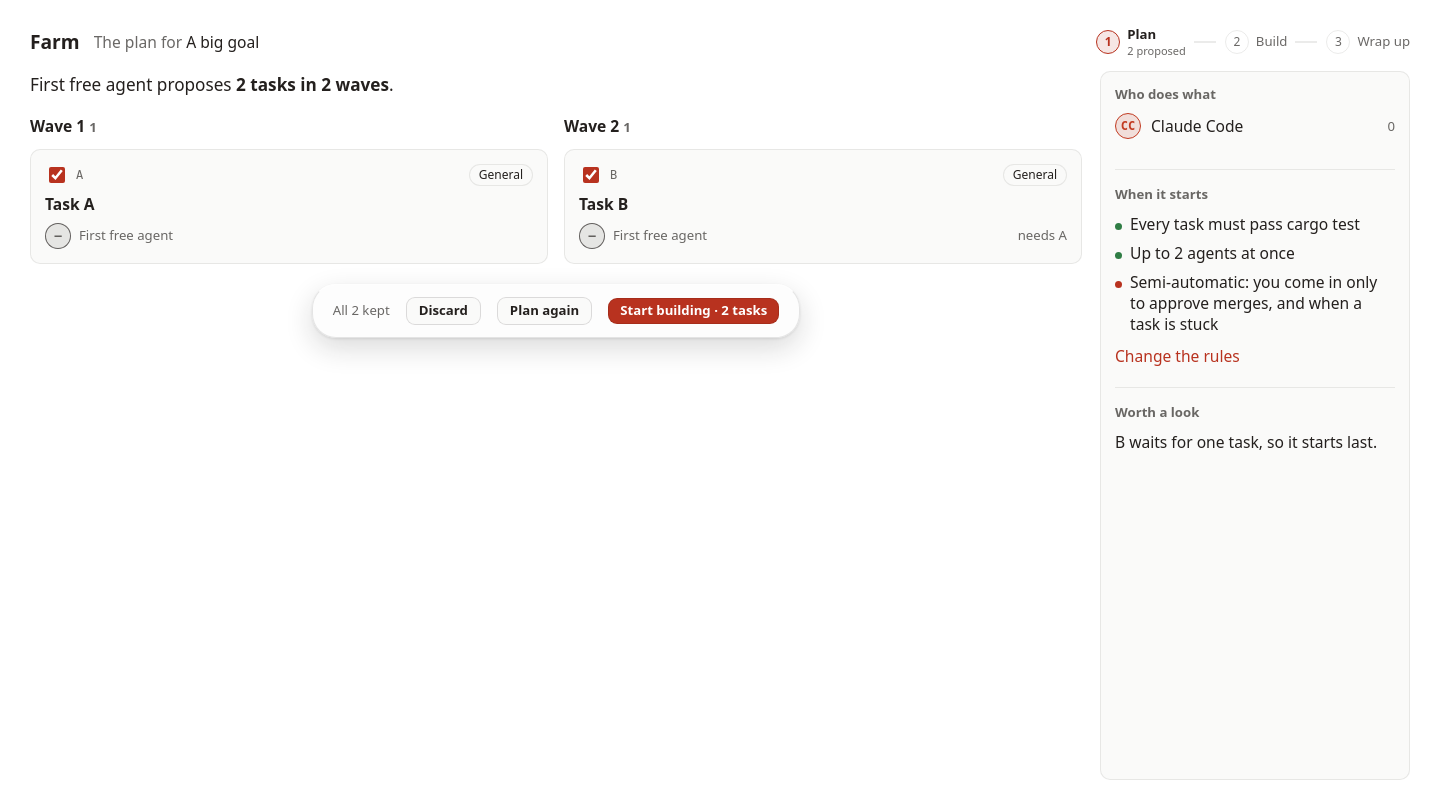
Test: Farm journey routes and actions › prevents accepting a plan with an omitted prerequisite
The width and height of the screenshot is (1440, 810).
Click the checkbox named "Keep A" at (57, 175), box [49,167,65,183]
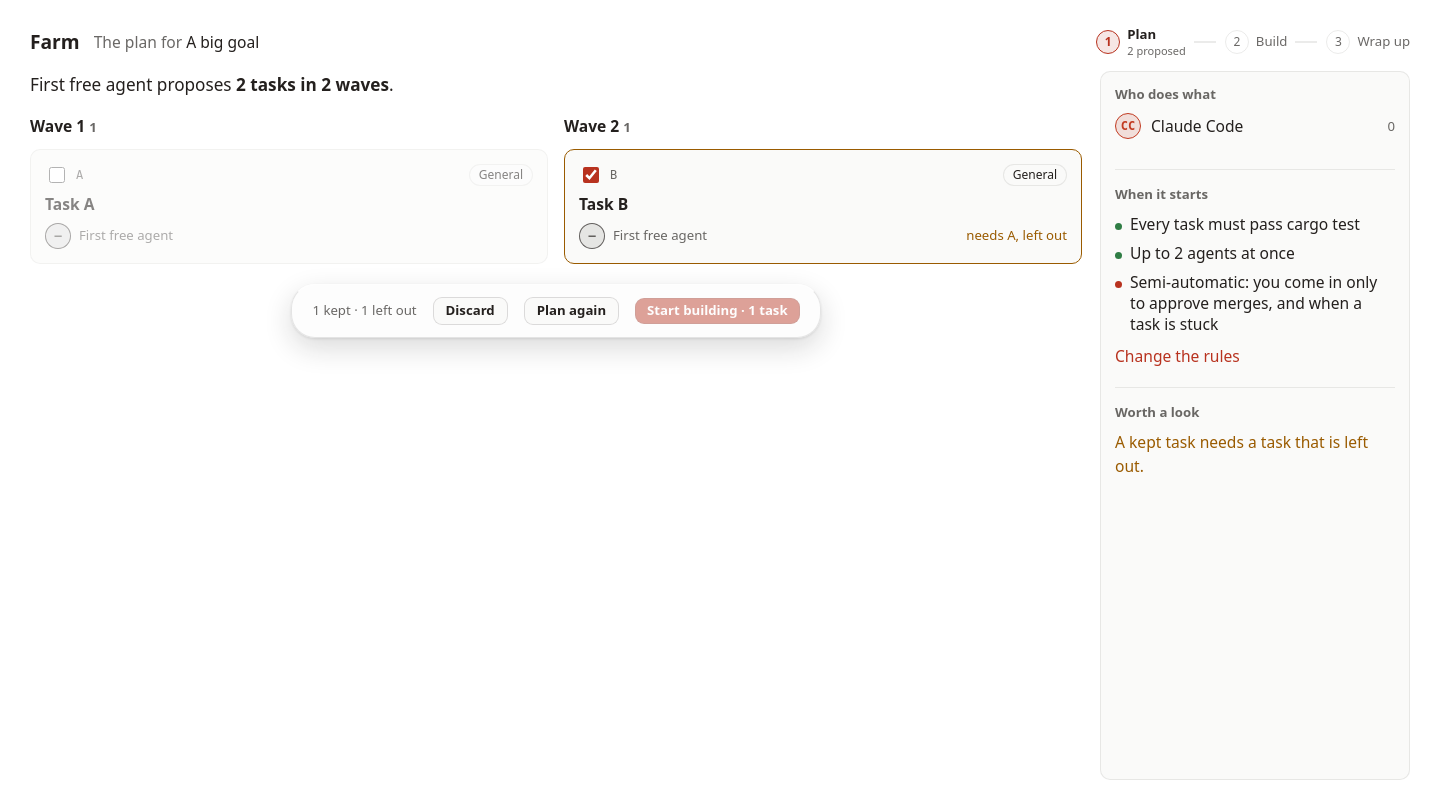
Expected: the button "Start building · 1 task" is disabled, [635,298,800,324]
